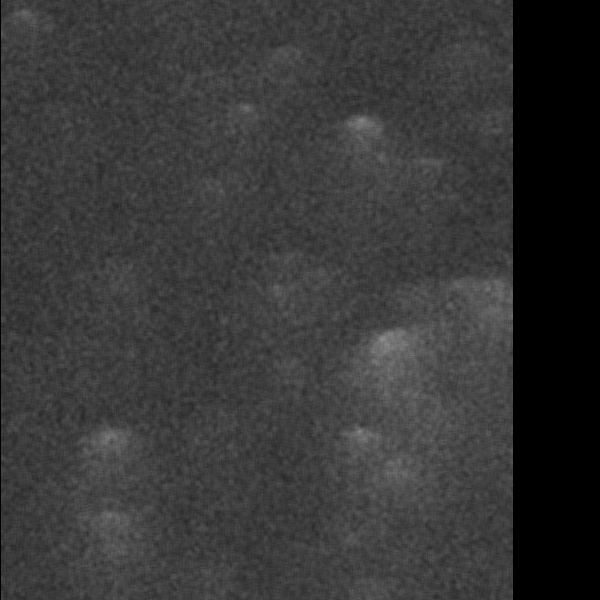spark: (116, 21, 194, 86), (135, 278, 206, 318), (118, 204, 205, 236), (86, 159, 163, 180)
